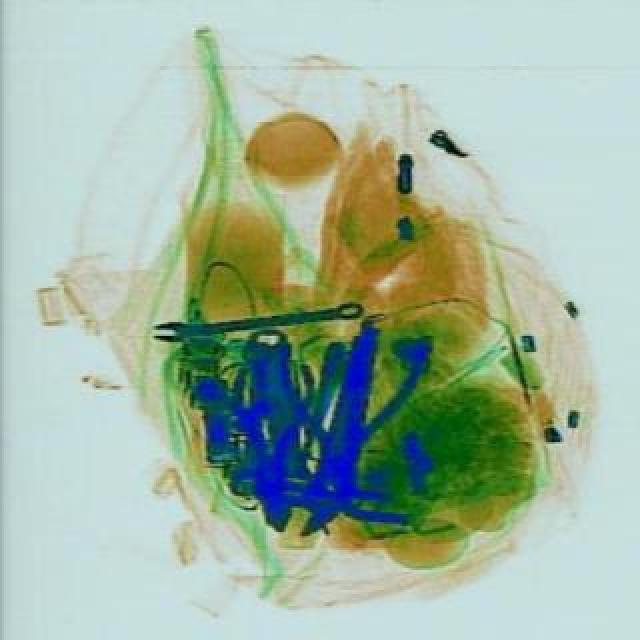scissors: (224, 322, 340, 540), (150, 294, 364, 342)
wrench: (256, 330, 424, 490)
